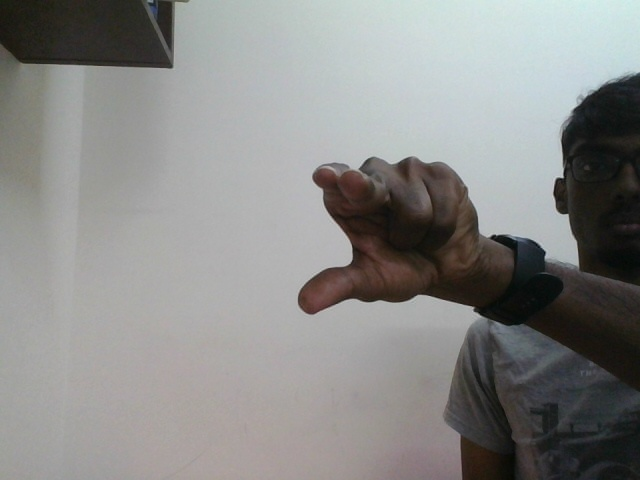No: (297, 150, 409, 315)
